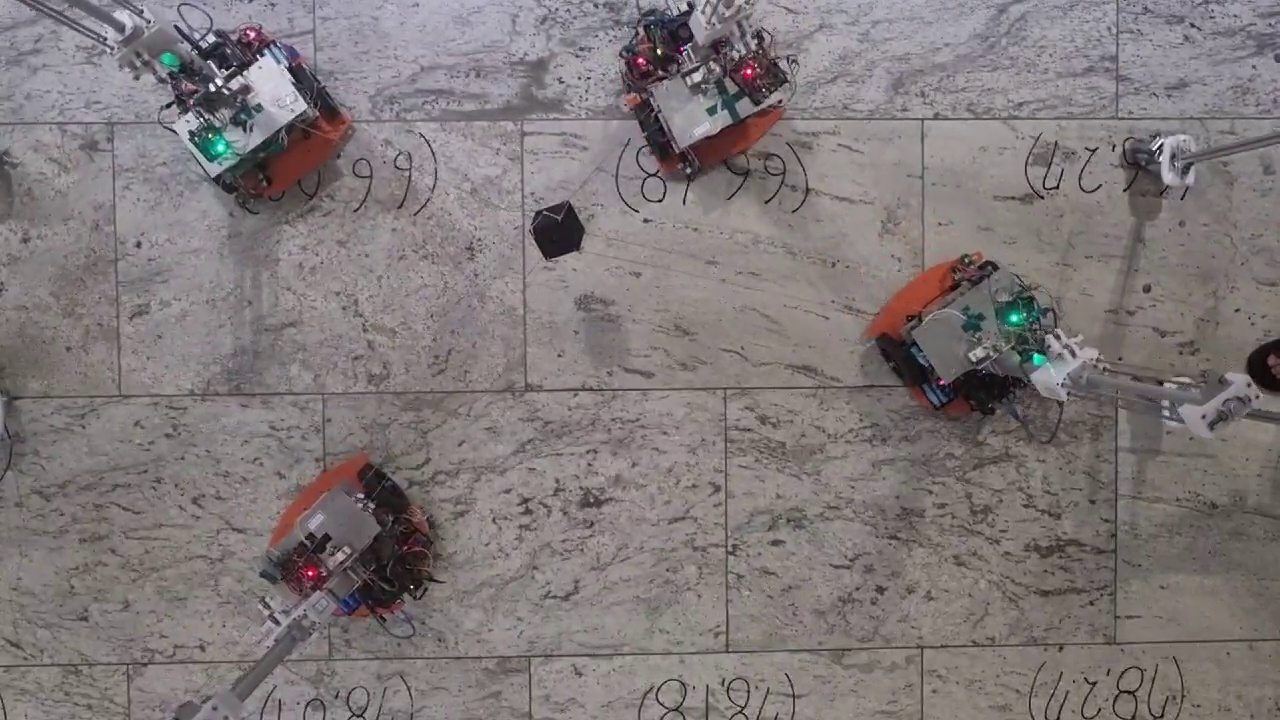e0: (530, 202, 586, 262)
r1: (876, 258, 1028, 387)
r2: (634, 47, 782, 162)
r3: (190, 62, 341, 196)
r4: (275, 464, 410, 600)
y_+_axis_vector: (522, 120, 923, 121)
y_-_axis_vector: (113, 121, 523, 123)
